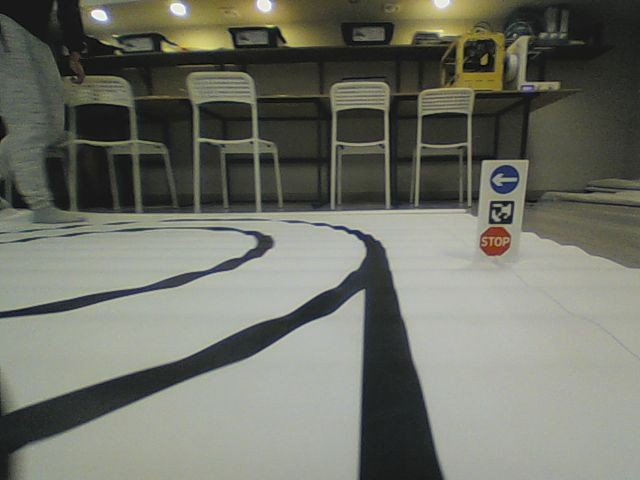Stop: (479, 225, 511, 257)
